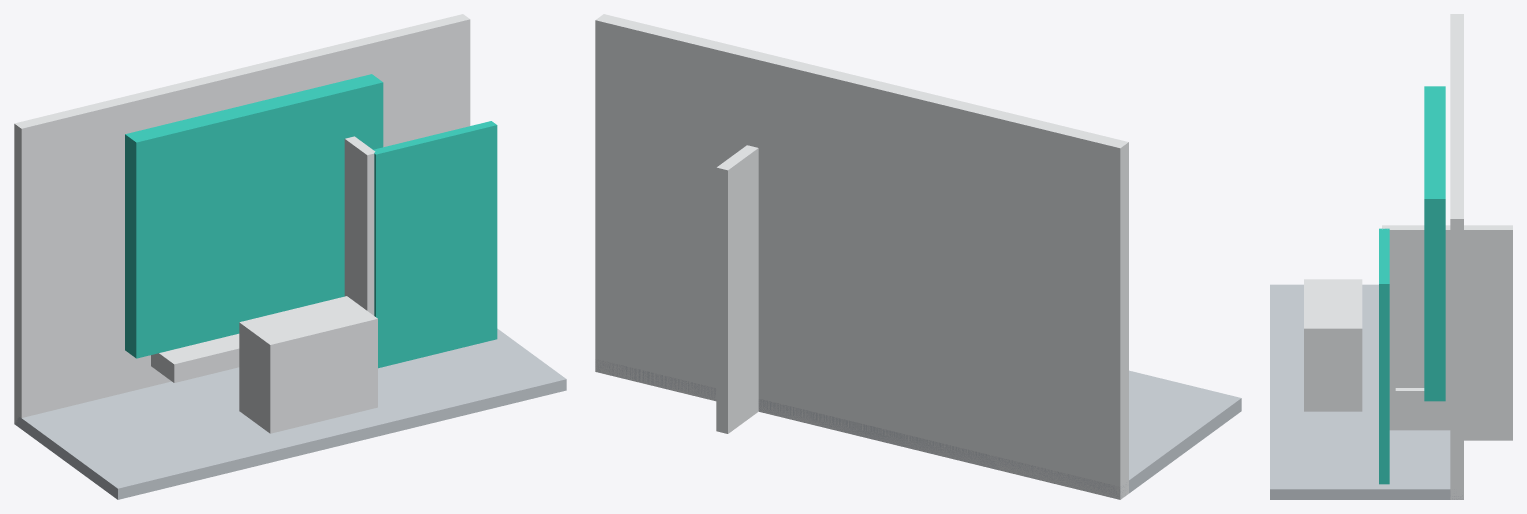
3 renders of one model, left to right at view 1: azimuth 30°, elevation 25°; view 2: azimuth 150°, elevation 25°; view 3: azimuth 270°, elevation 25°, orthographic. The views are drawn at different scales.
Visible parts, largest first — view 1: Exhibition Booth Concept; view 2: Exhibition Booth Concept; view 3: Exhibition Booth Concept.
Boxes of the visible parts, left/top/right/bottom form: Exhibition Booth Concept: left=14, top=14, right=566, bottom=499; Exhibition Booth Concept: left=595, top=14, right=1241, bottom=499; Exhibition Booth Concept: left=1270, top=14, right=1512, bottom=499.
Size of the model in its own units: 5 by 3.2 by 2.5.
